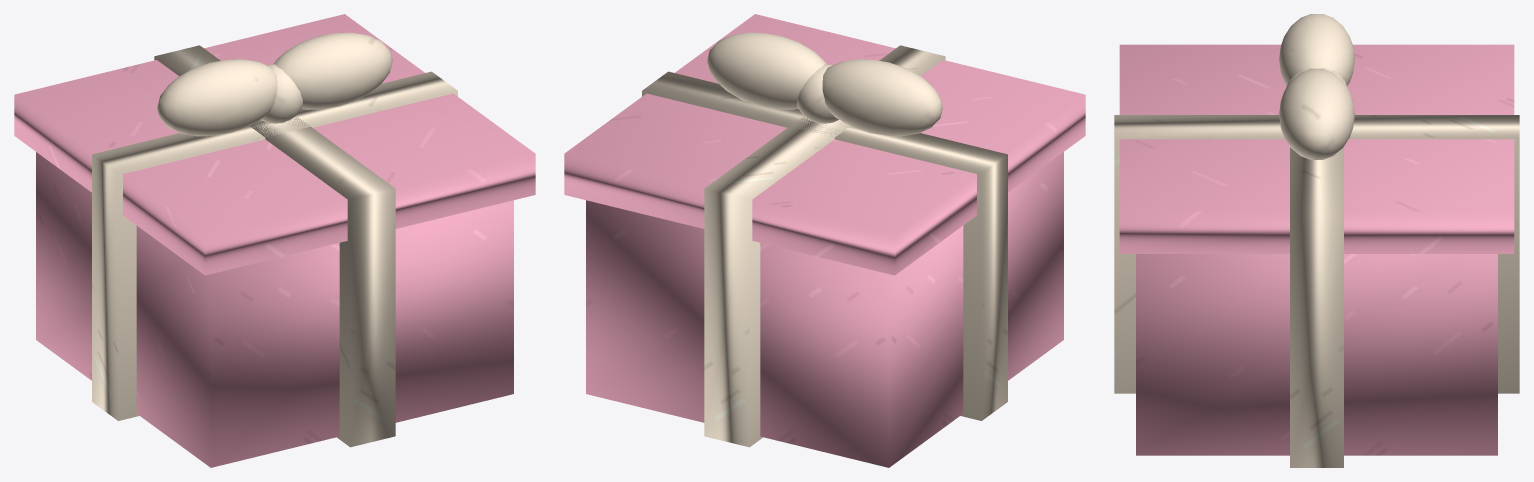
Rendered from regalo_2.obj.
3 views of the same model, side by side, from view 1: azimuth 30°, elevation 25°; view 2: azimuth 150°, elevation 25°; view 3: azimuth 270°, elevation 25° (orthographic). The views are drawn at different scales.
Parts seen in each view (by area): view 1: regalo_2; view 2: regalo_2; view 3: regalo_2.
Boxes of the visible parts, x1,y1,x2,y2 form: regalo_2: (14, 14, 535, 467); regalo_2: (564, 14, 1085, 467); regalo_2: (1114, 14, 1519, 467).
Bounding box in the file's own units: 1.12 × 1.01 × 1.12.
2 materials, 2 textured.
